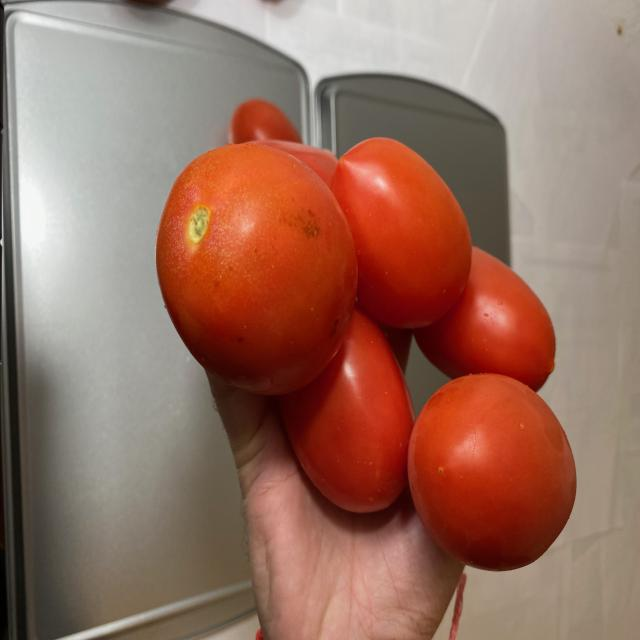tomato: (159, 99, 577, 575)
